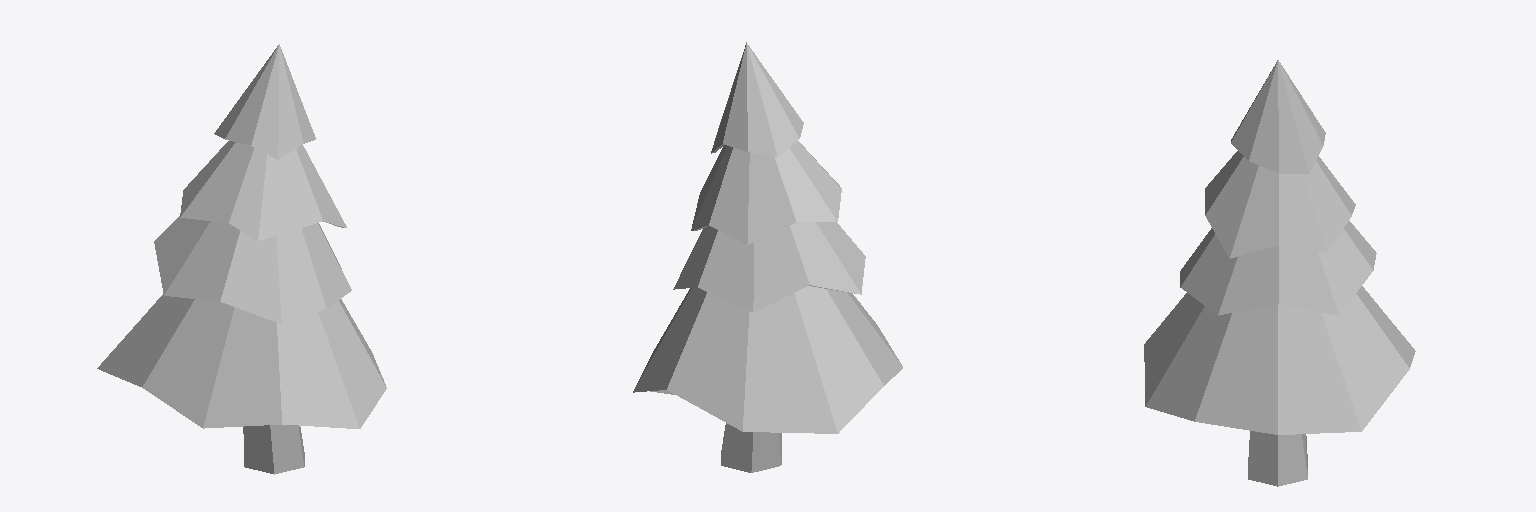
Rendered from Tree_05.obj.
3 views of the same model, side by side, from view 1: azimuth 30°, elevation 25°; view 2: azimuth 150°, elevation 25°; view 3: azimuth 270°, elevation 25° (orthographic).
Visible parts, largest first — view 1: Tree_05; view 2: Tree_05; view 3: Tree_05.
Boxes of the visible parts, x1,y1,x2,y2 form: Tree_05: [97, 44, 386, 474]; Tree_05: [633, 42, 902, 472]; Tree_05: [1144, 60, 1415, 486].
Size of the model in its own units: 2.13 by 3.67 by 2.18.